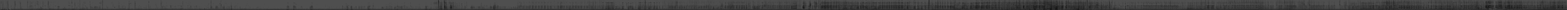Moan: (1211, 0, 1214, 10), (1039, 0, 1041, 10), (1207, 0, 1209, 10), (1562, 0, 1563, 10)
